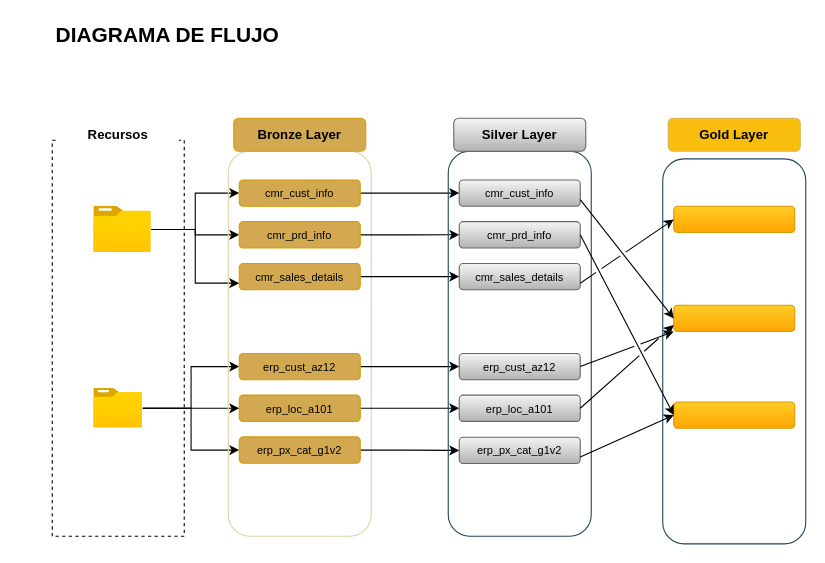
The diagram is 825 pixels wide and 563 high, and some of its shapes have lost their labels. The centre of each missing label's shape, as x and y in pixels:
CRM: pixel 122 229
dim_customer: pixel 734 318
dim_products: pixel 734 414
ERP: pixel 117 408
fact_sales: pixel 734 219
